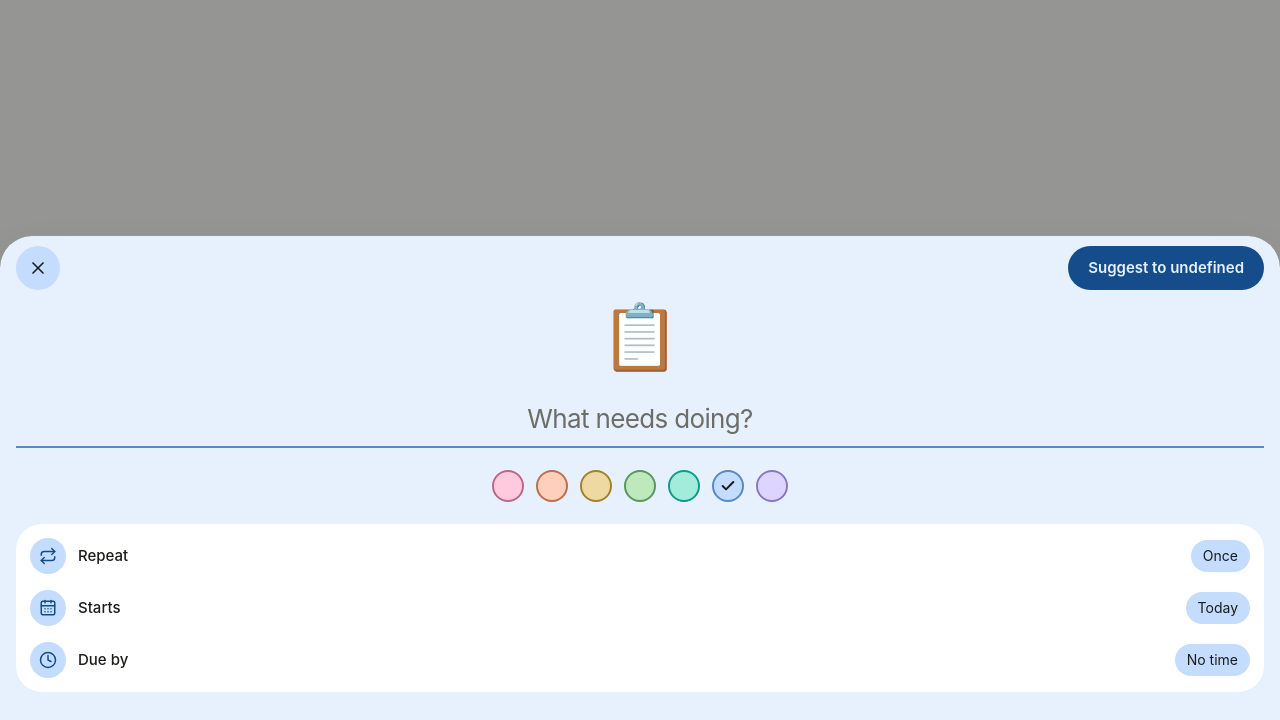
Test: automatic emoji in the New task sheet › falls back to the default when the settled suggestion for a new title is empty
The width and height of the screenshot is (1280, 720).
Type "Water the plants" into the field named "Task". click: (640, 420)
box: [16,392,1264,448]
Wait 300 ms
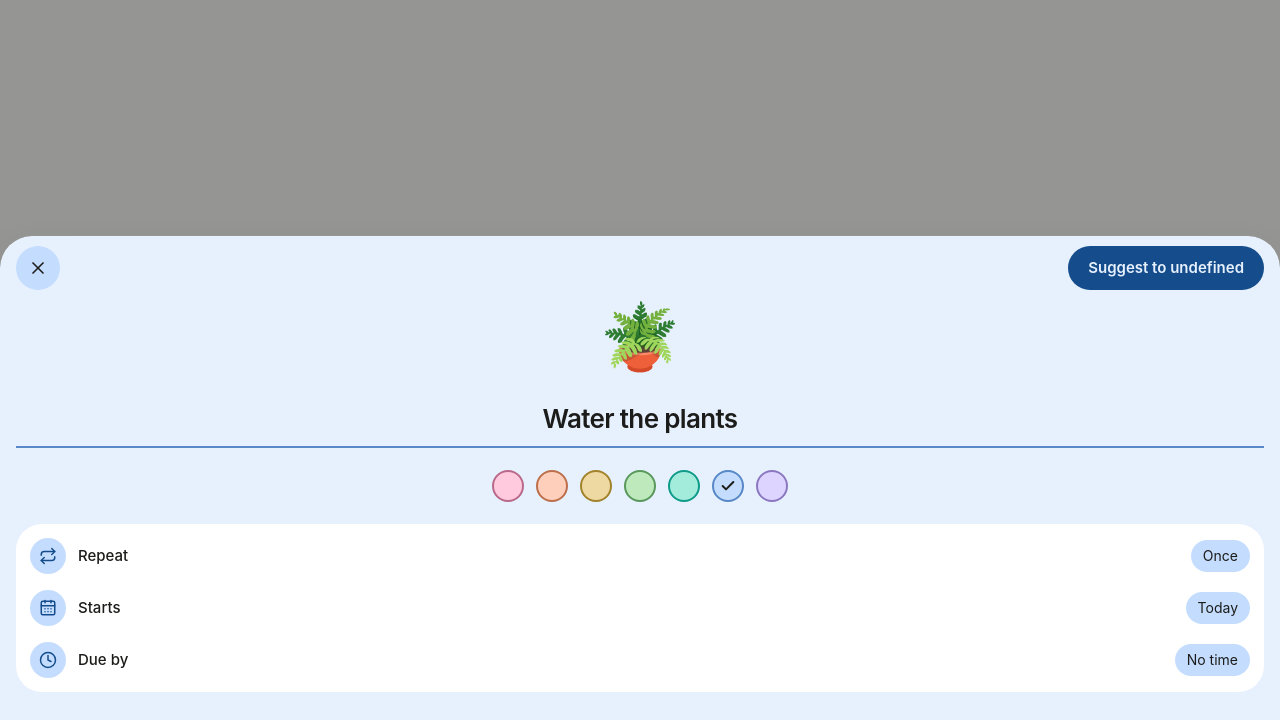
Expected: the button named "Emoji: potted plant, change" is shown, [600,296,680,376]
Type " qzx" into the field named "Task". click: (640, 420)
box: [16,392,1264,448]
Wait 300 ms
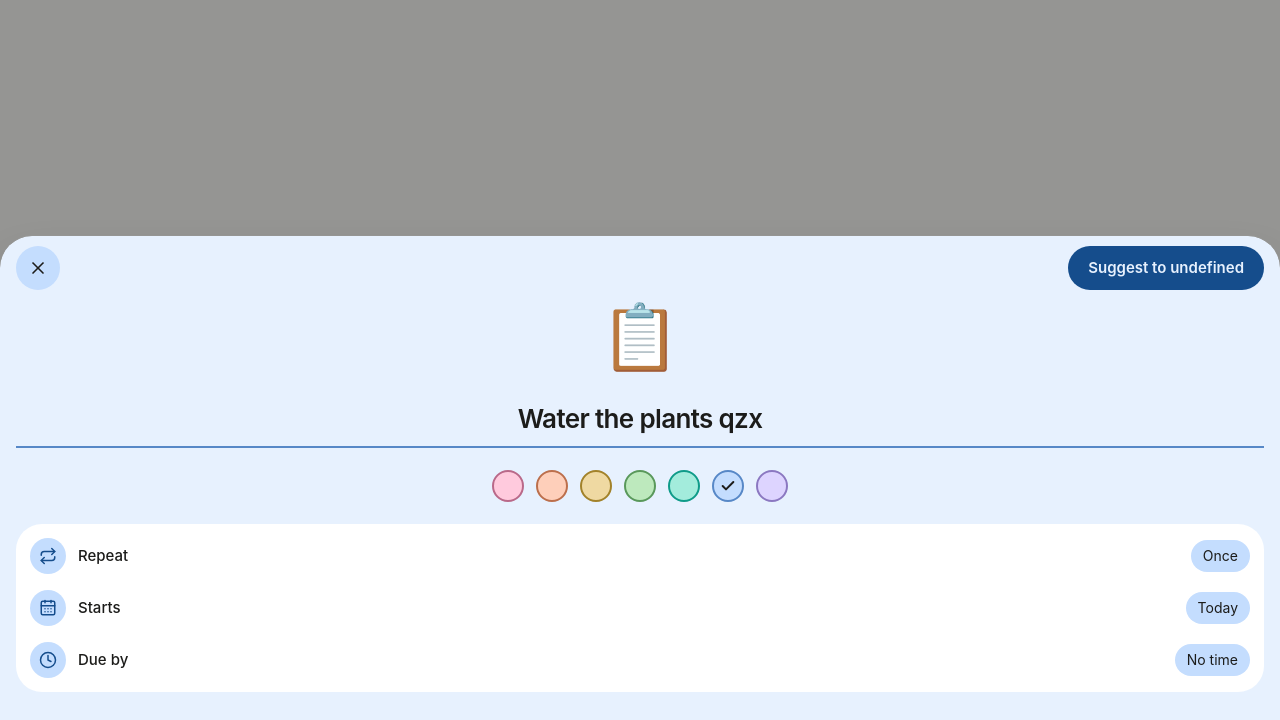
Expected: the button named "Emoji: clipboard, default, change" is shown, [600,296,680,376]
